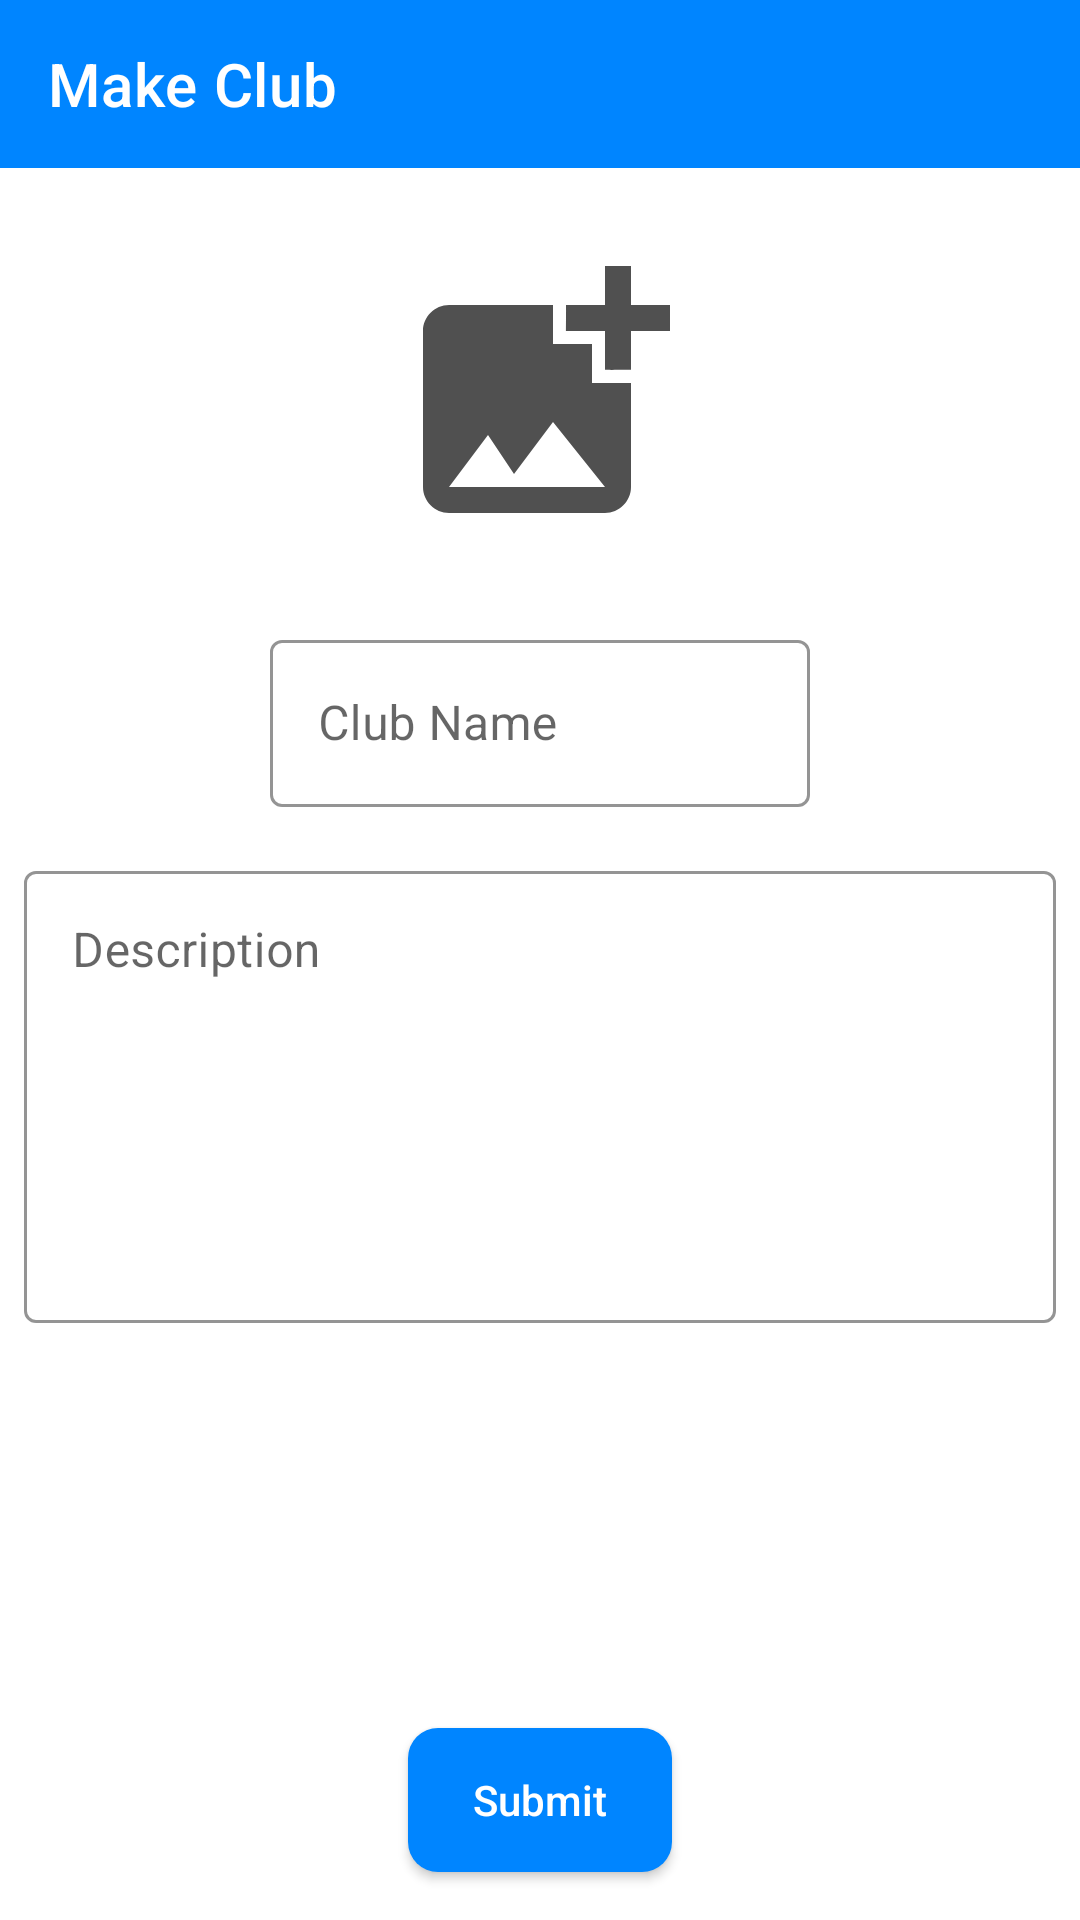

Icon click points for this 1080*1920 phone screenshot, format [x,y]:
add photo alternate: [546,389]
